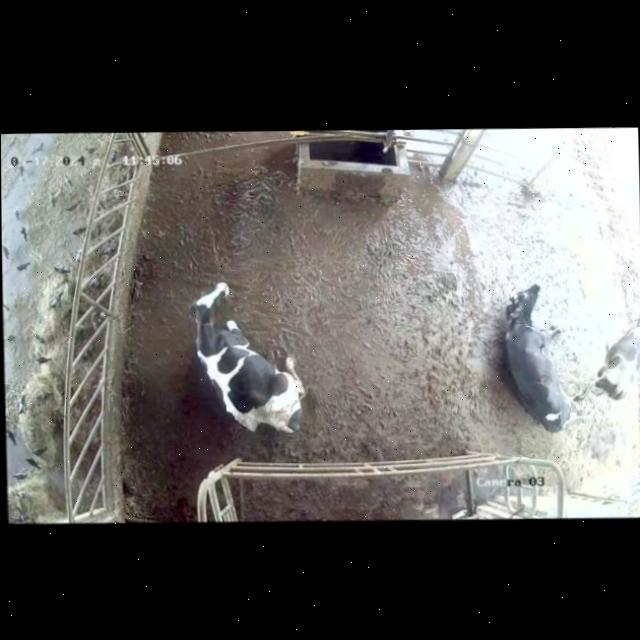lay: (158, 277, 334, 451), (487, 276, 587, 445)
stand: (591, 270, 640, 423)
